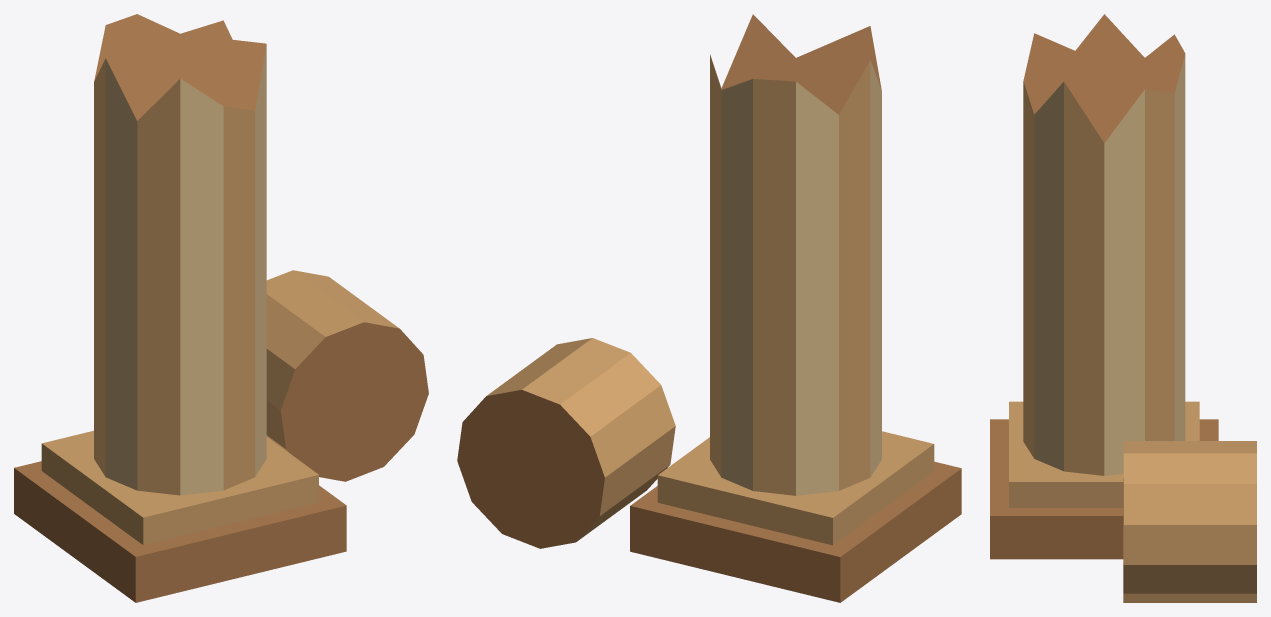
Rendered from BrokenPillar.fbx.
3 views of the same model, side by side, from view 1: azimuth 30°, elevation 25°; view 2: azimuth 150°, elevation 25°; view 3: azimuth 270°, elevation 25° (orthographic). The views are drawn at different scales.
Visible parts, largest first — view 1: BrokenPillar; view 2: BrokenPillar; view 3: BrokenPillar.
Part boxes in pixels (x1=…): BrokenPillar: x1=14, y1=14, x2=428, y2=602; BrokenPillar: x1=457, y1=14, x2=961, y2=602; BrokenPillar: x1=990, y1=14, x2=1256, y2=602.
Bounding box in the file's own units: 4.14 × 5.36 × 2.8.
Materials: 1 (1 with a texture image).
